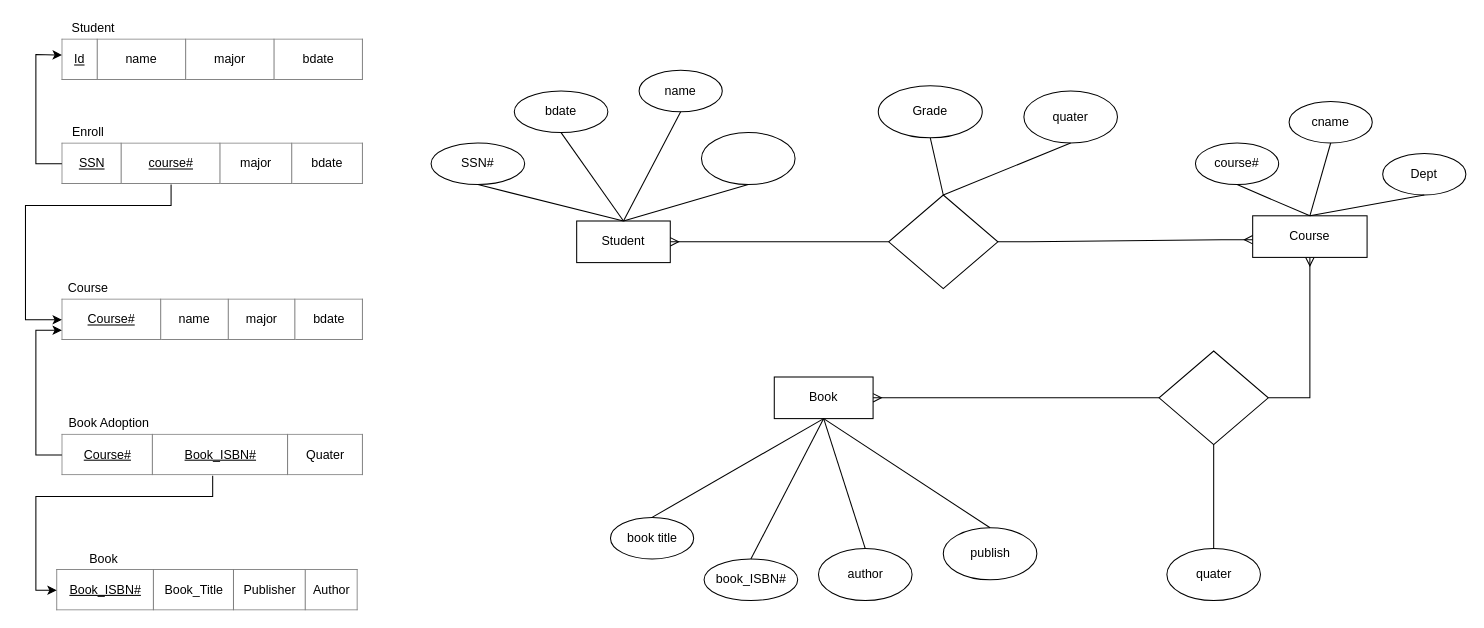
Some shapes in this 1484 by 628 pixel diagram are drawn without their labels. The shapes that lost their labels are listed below. From the top down, each one's centre as x and y in pixels, then its label:
At pixel 747 158: "major".
At pixel 943 241: "eroll".
At pixel 1213 397: "Book_Adoption".
